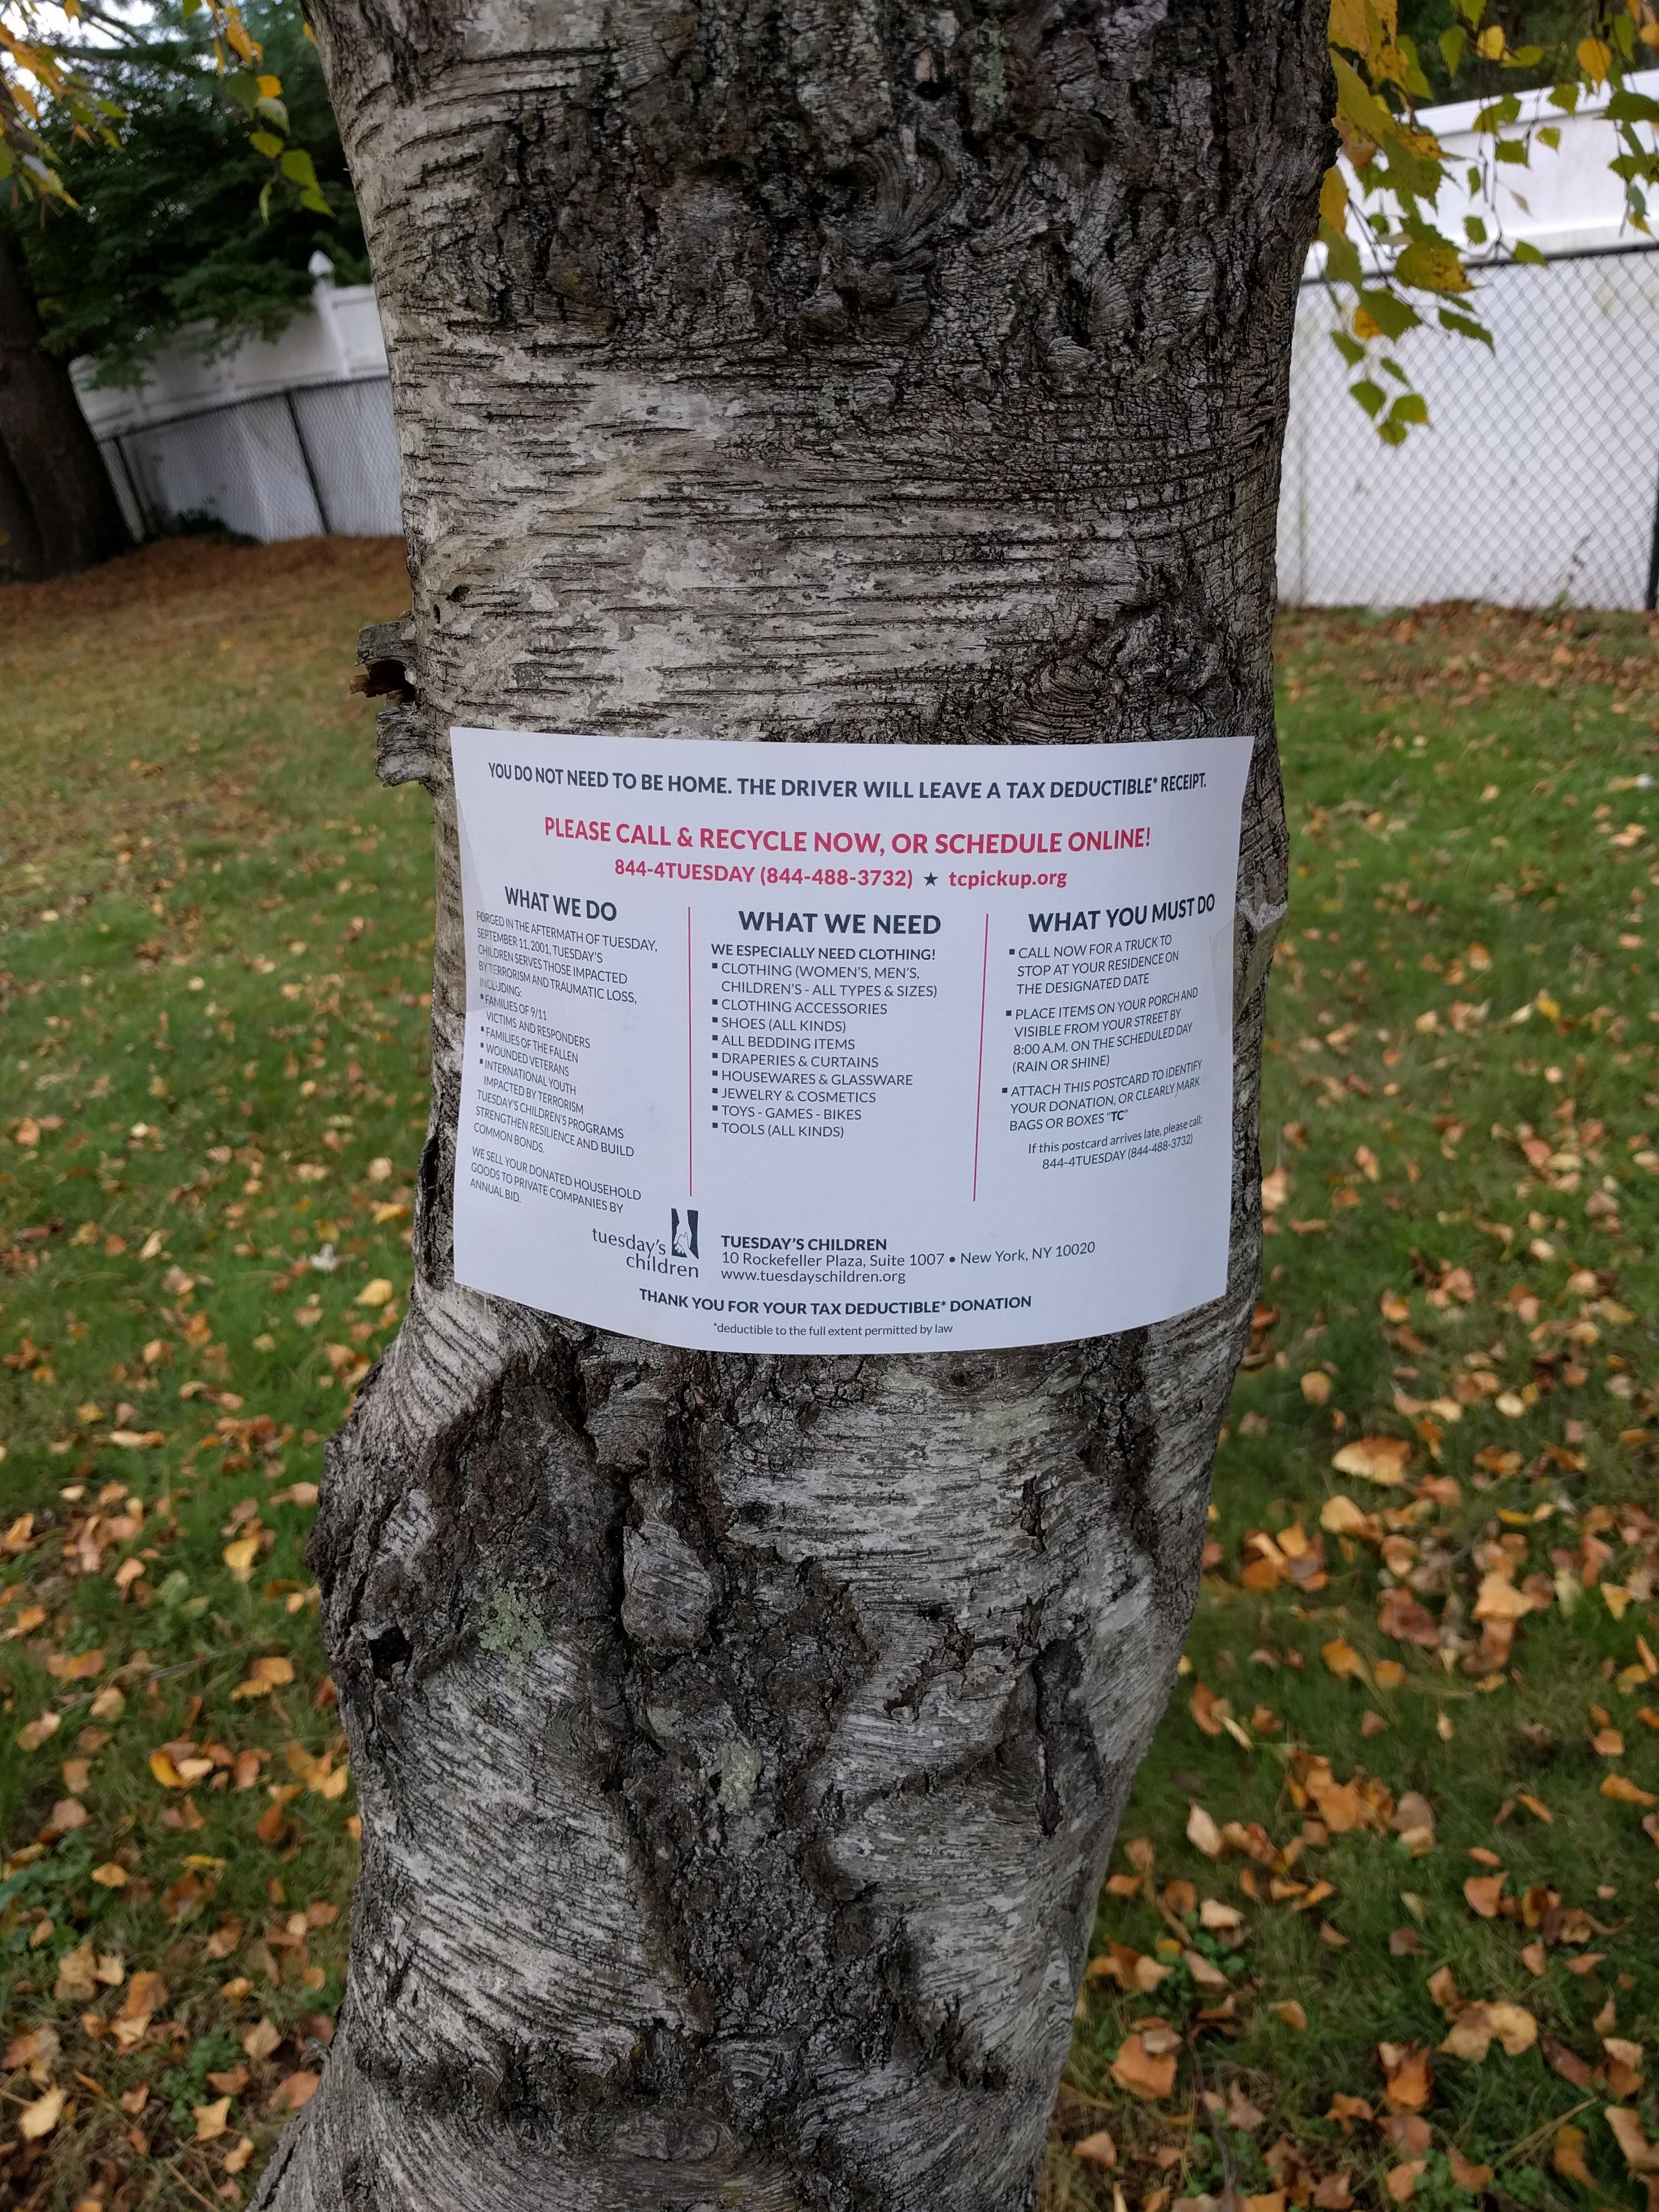paper: (343, 535, 1399, 1608)
